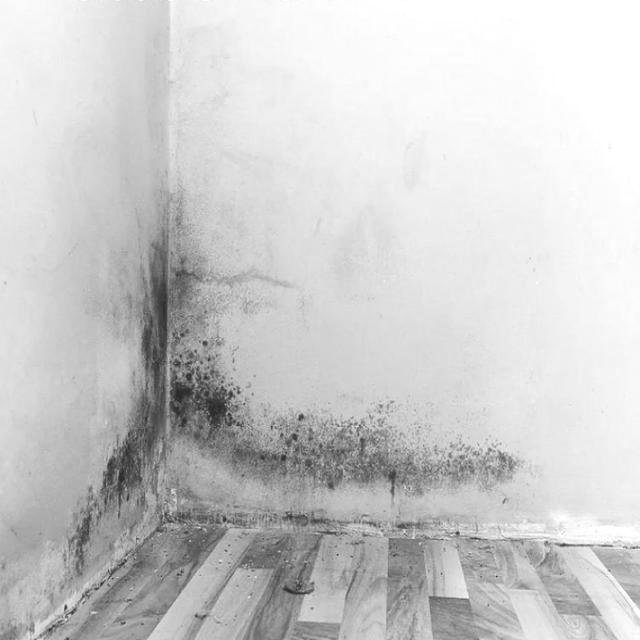stain marks: (90, 0, 244, 560), (224, 360, 568, 522), (241, 118, 453, 354), (0, 440, 128, 640)
